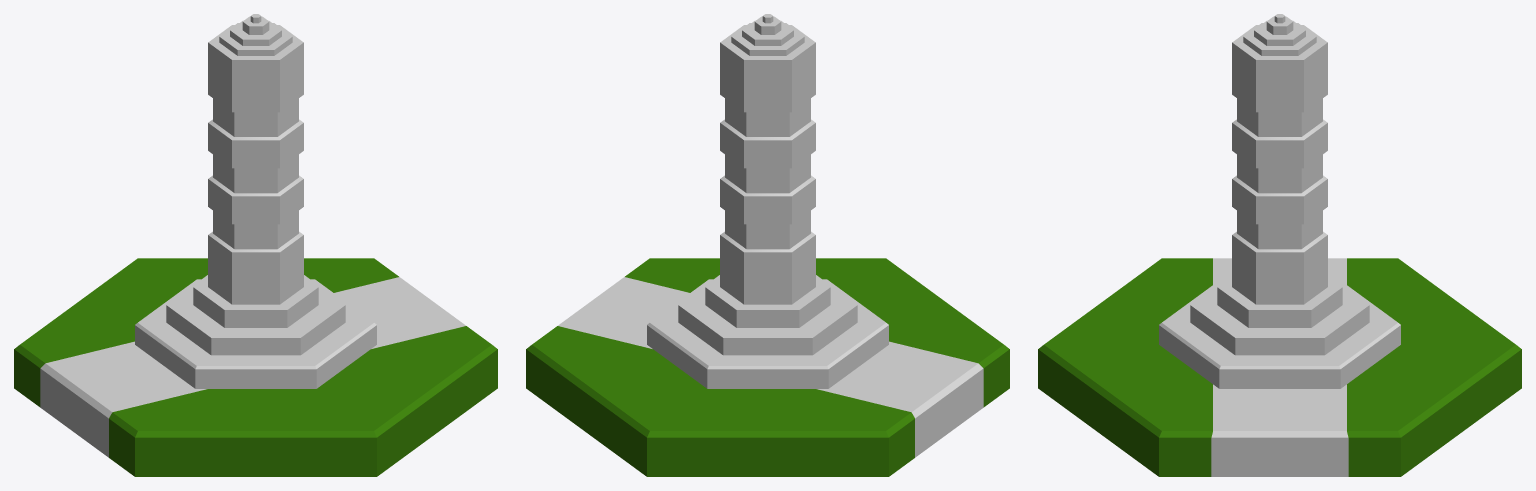
File: plain_grass_Monolith_Hex_tile.fbx
3 views of the same model, side by side, from view 1: azimuth 30°, elevation 25°; view 2: azimuth 150°, elevation 25°; view 3: azimuth 270°, elevation 25° (orthographic).
Parts seen in each view (by area): view 1: Cylinder, Shrine; view 2: Cylinder, Shrine; view 3: Cylinder, Shrine.
Part boxes in pixels (<box>): Cylinder: <box>14,258,497,476</box>; Shrine: <box>135,14,376,388</box>; Cylinder: <box>526,258,1009,476</box>; Shrine: <box>647,14,888,388</box>; Cylinder: <box>1038,258,1521,476</box>; Shrine: <box>1159,14,1400,388</box>.
Size of the model in its own units: 1.73 by 1.7 by 2.
